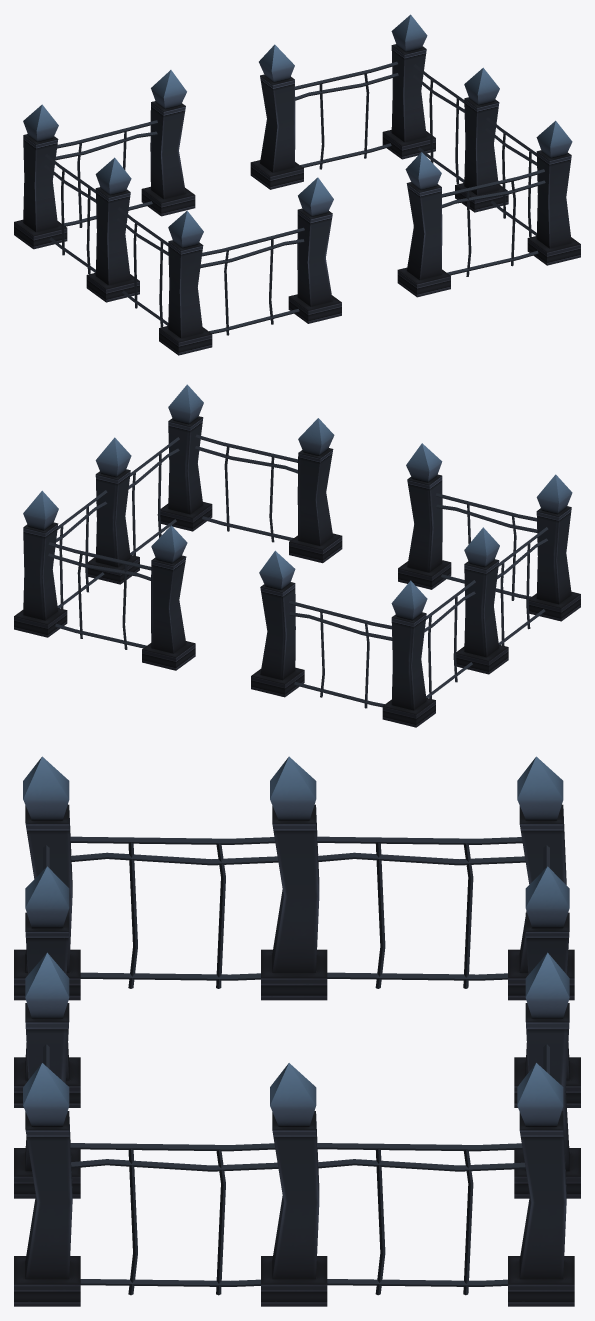
File: GraveYard_Fence_03.FBX
3 views of the same model, one above another, from view 1: azimuth 30°, elevation 25°; view 2: azimuth 150°, elevation 25°; view 3: azimuth 270°, elevation 25° (orthographic). The views are drawn at different scales.
Parts seen in each view (by area): view 1: GraveYard_Fence_03; view 2: GraveYard_Fence_03; view 3: GraveYard_Fence_03.
Boxes of the visible parts, x1=… form: GraveYard_Fence_03: x1=14, y1=14, x2=580, y2=355; GraveYard_Fence_03: x1=14, y1=384, x2=580, y2=727; GraveYard_Fence_03: x1=14, y1=756, x2=580, y2=1306.
Bounding box in the file's own units: 229 × 73.72 × 164.
